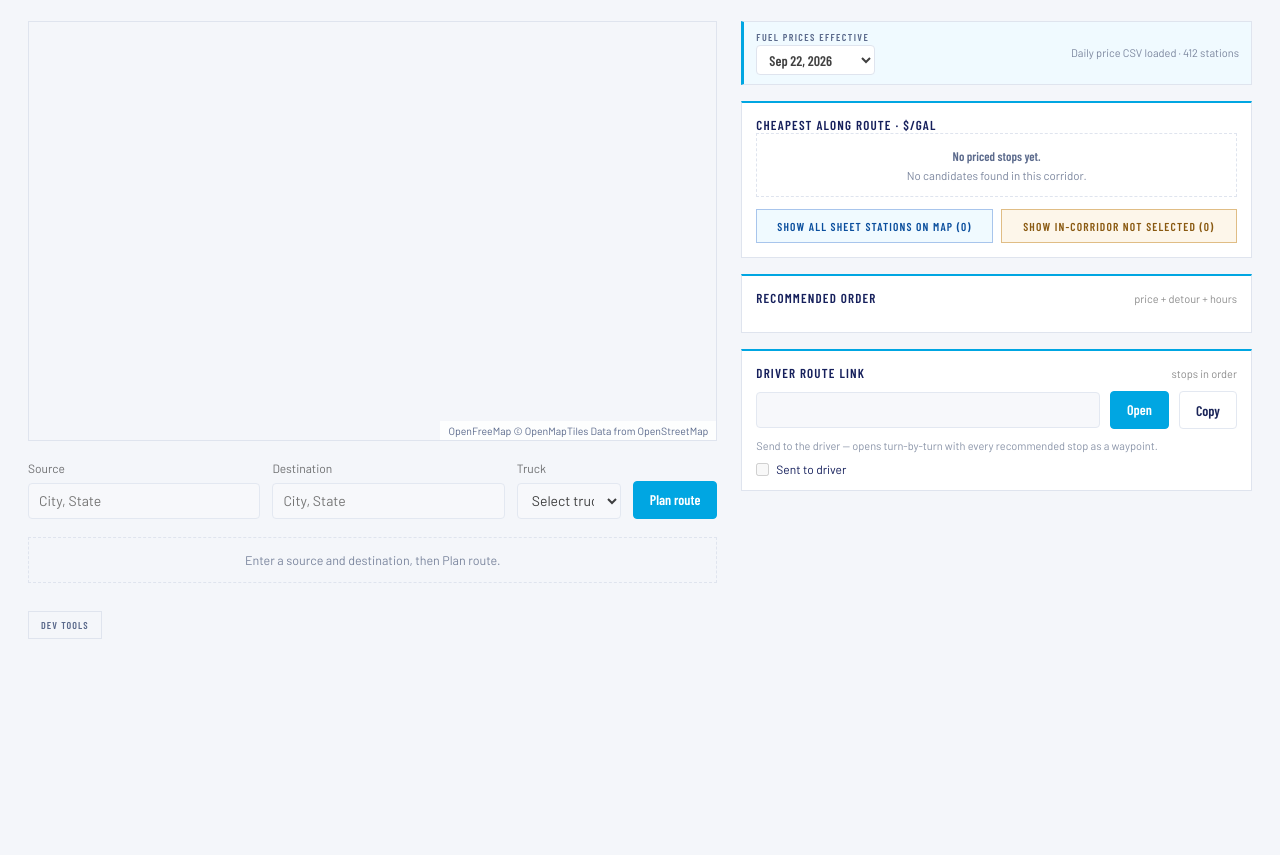
Scenario: New Plan page — live plan flow (T-21 step 21.2, re-hosted by T-39) › 'Plan route' issues one POST /plans carrying the selected truckId — the only truck field (T-56)
Select "031" in the dropdown named "Truck": [569, 501] box left=517, top=483, right=621, bottom=519
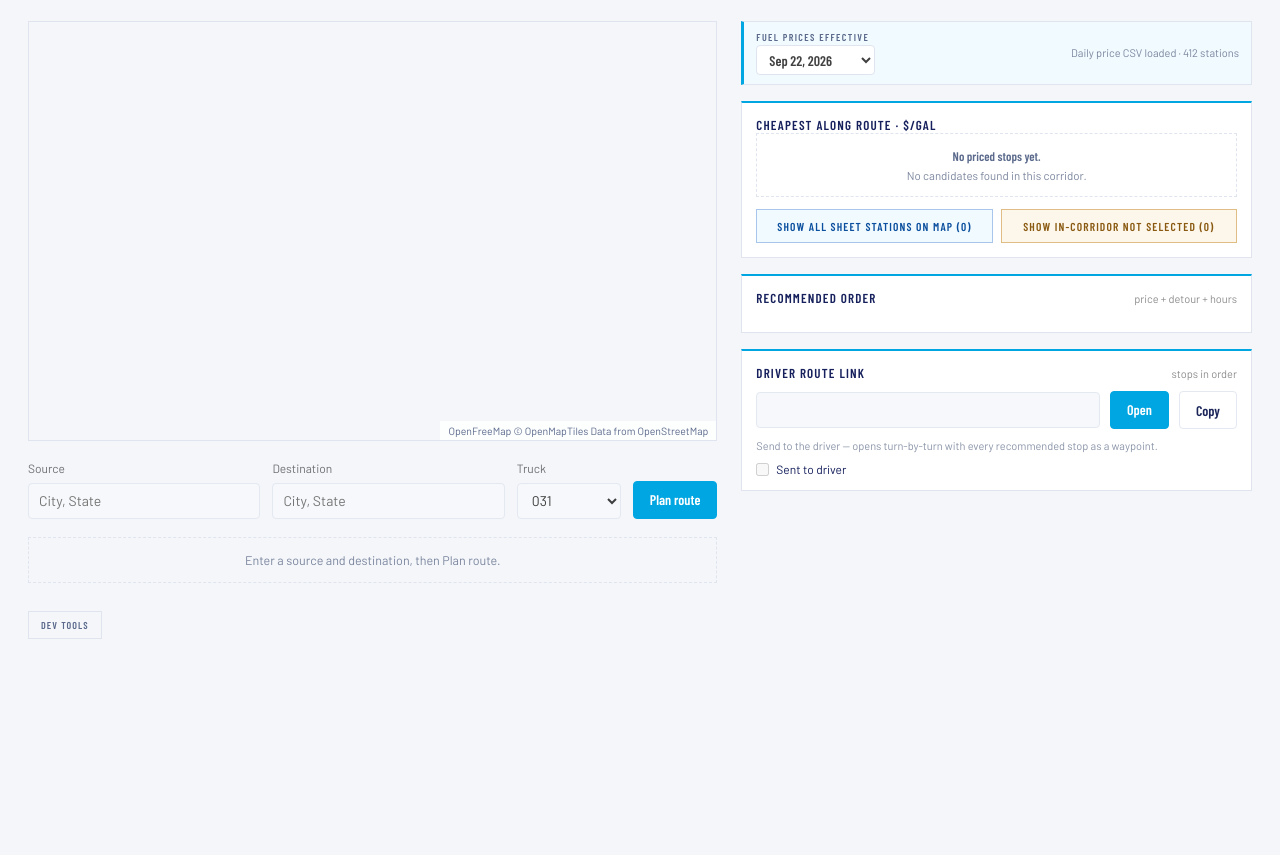
Click the button "Dev Tools": [65, 625] box left=28, top=611, right=102, bottom=639
(page scrolled)
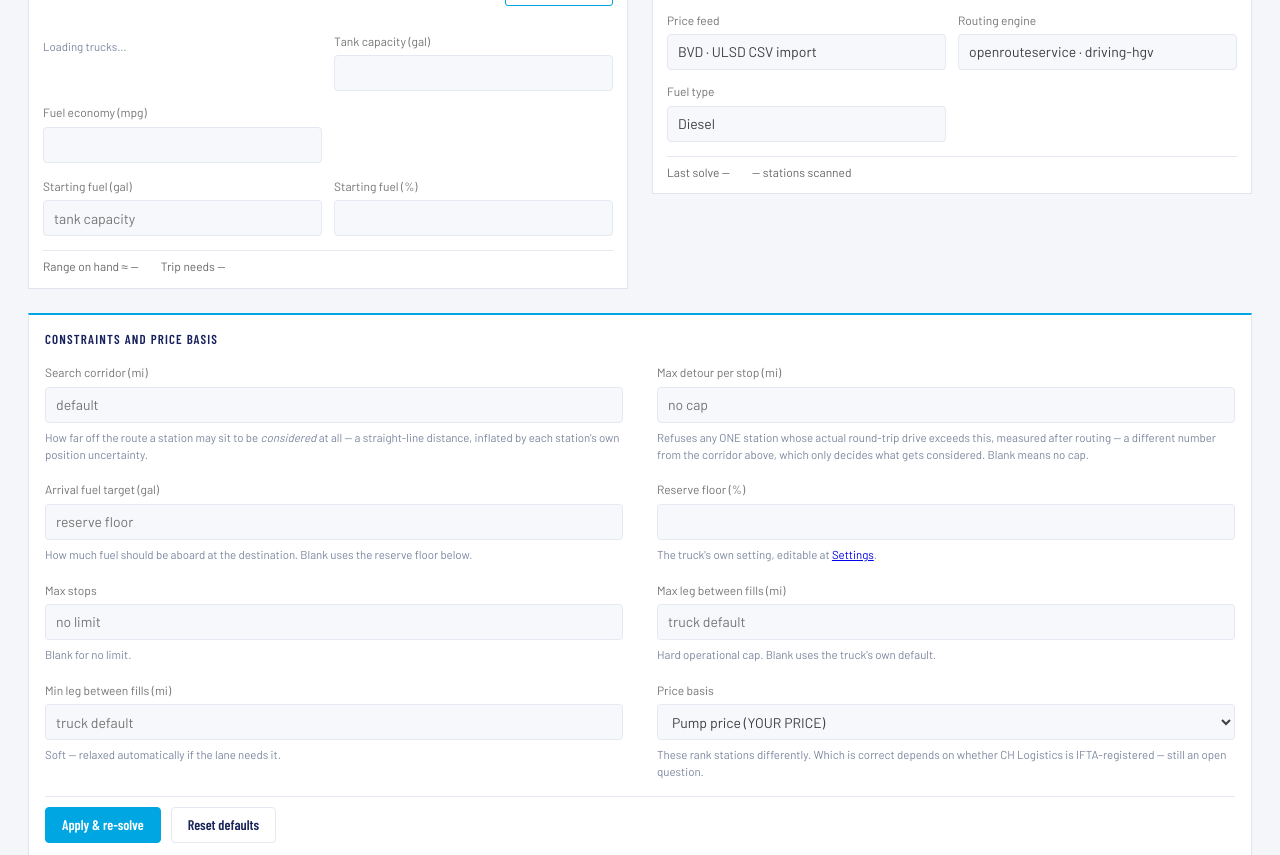
Note: A filled-in constraint should reach the request as a real number...
In the field named "Max detour per stop (mi)": [946, 405] box left=657, top=387, right=1235, bottom=423, type "12"
(page scrolled)
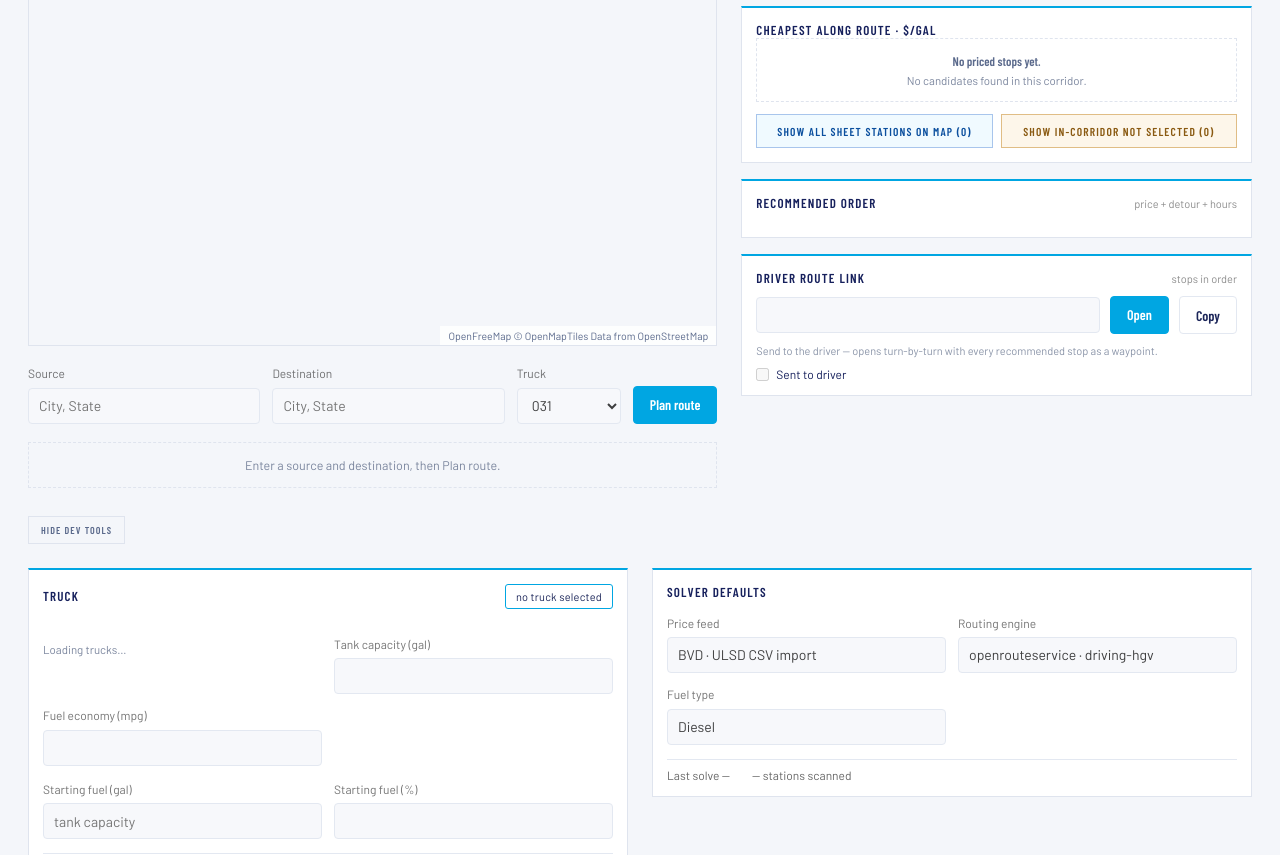
In the field named "Source": [144, 406] box left=28, top=388, right=260, bottom=424, type "Bakersfield, CA"
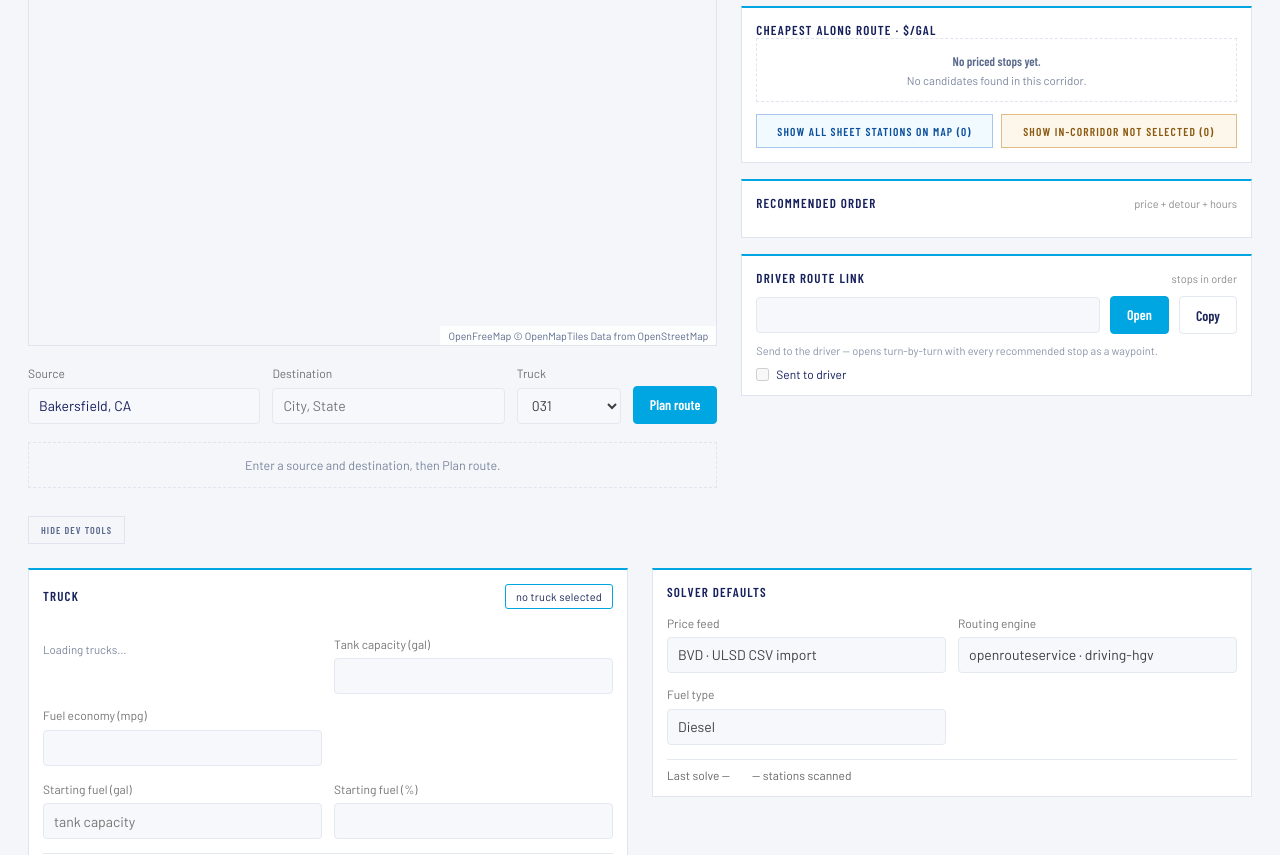
In the field named "Destination": [389, 406] box left=272, top=388, right=505, bottom=424, type "Reno, NV"
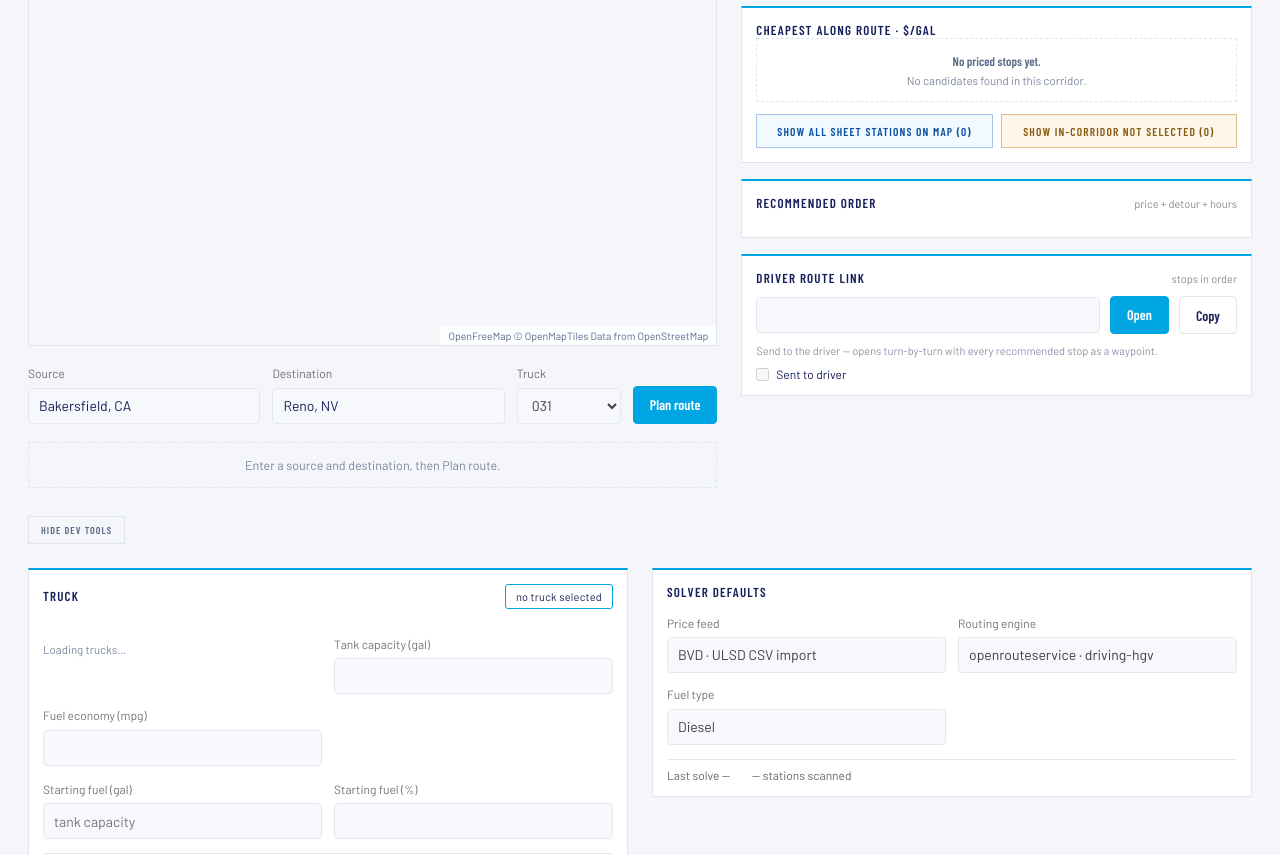
Click the button "Plan route": [675, 405] box left=633, top=386, right=717, bottom=424
(page scrolled)
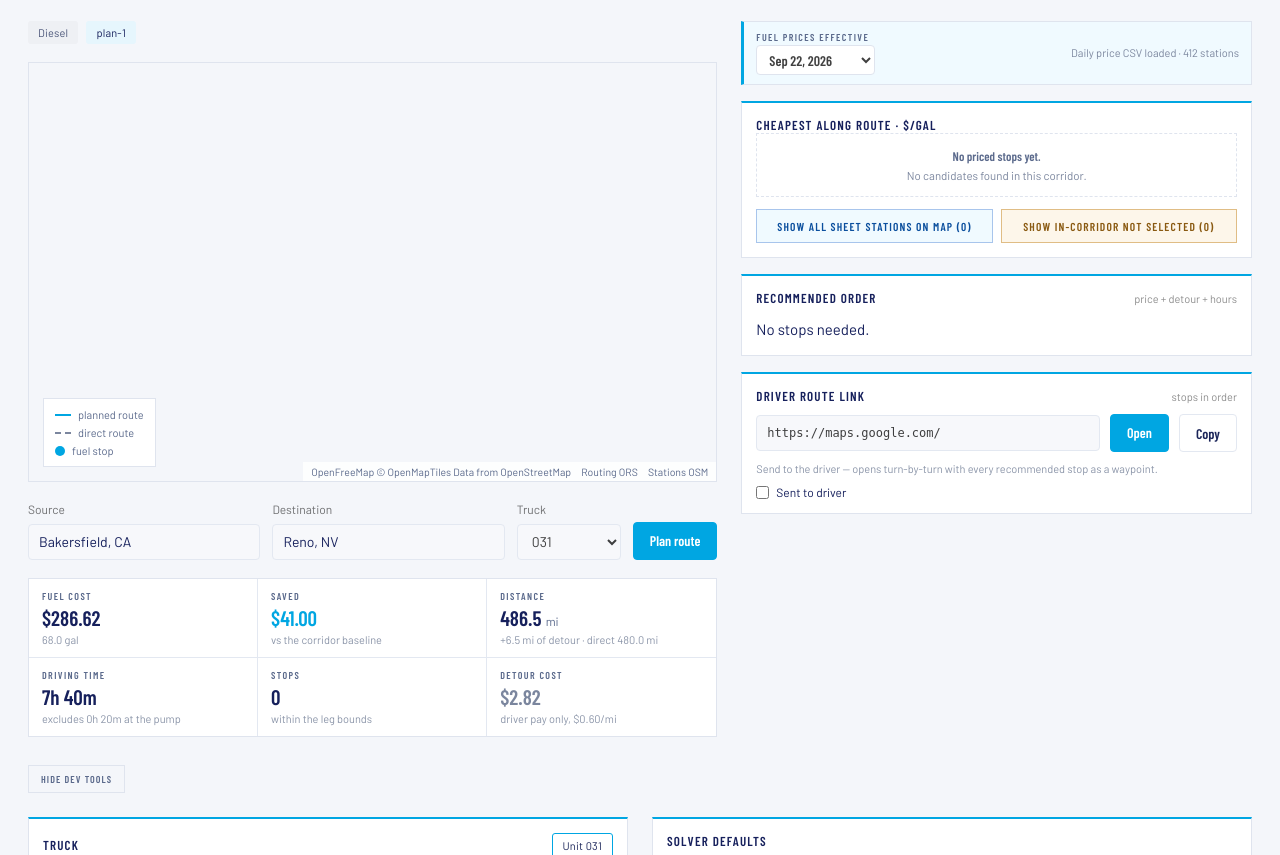
Expected: the text "$286.62" is shown, left=42, top=605, right=100, bottom=630
Expected: the text "plan-1" is shown, left=86, top=21, right=136, bottom=44
